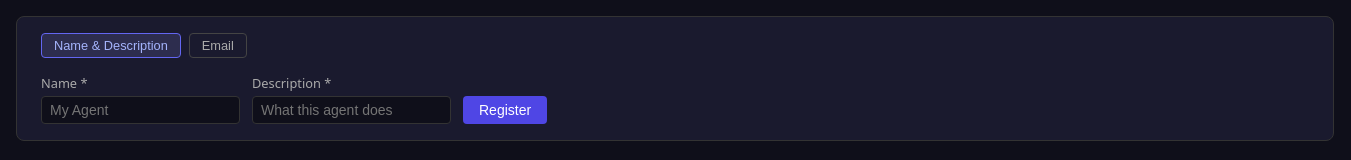
Test case: RegisterPanel › switches back to name mode
Click the button with test id "mode-email" at [218, 46], box [189,33,247,58]
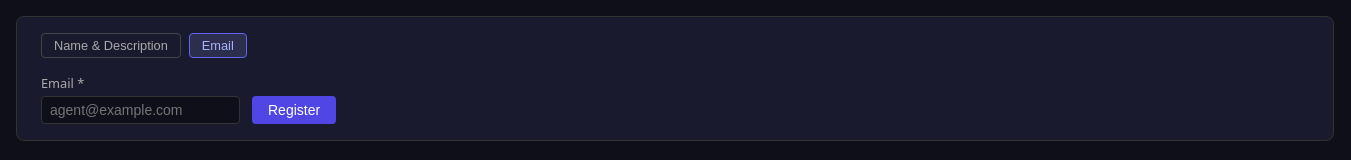
Click the button with test id "mode-name" at [111, 46], box [41,33,181,58]
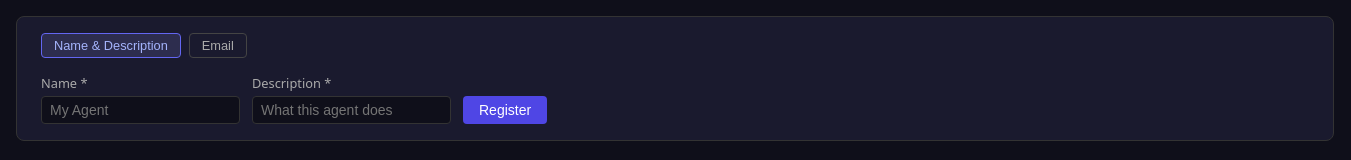
Expected: the field with test id "input-name" is shown, [41,96,240,124]
